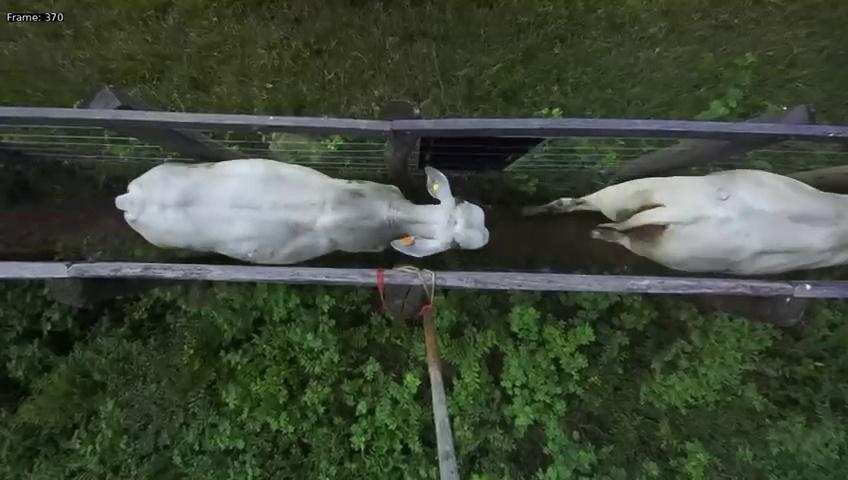cattle: (111, 134, 488, 265)
